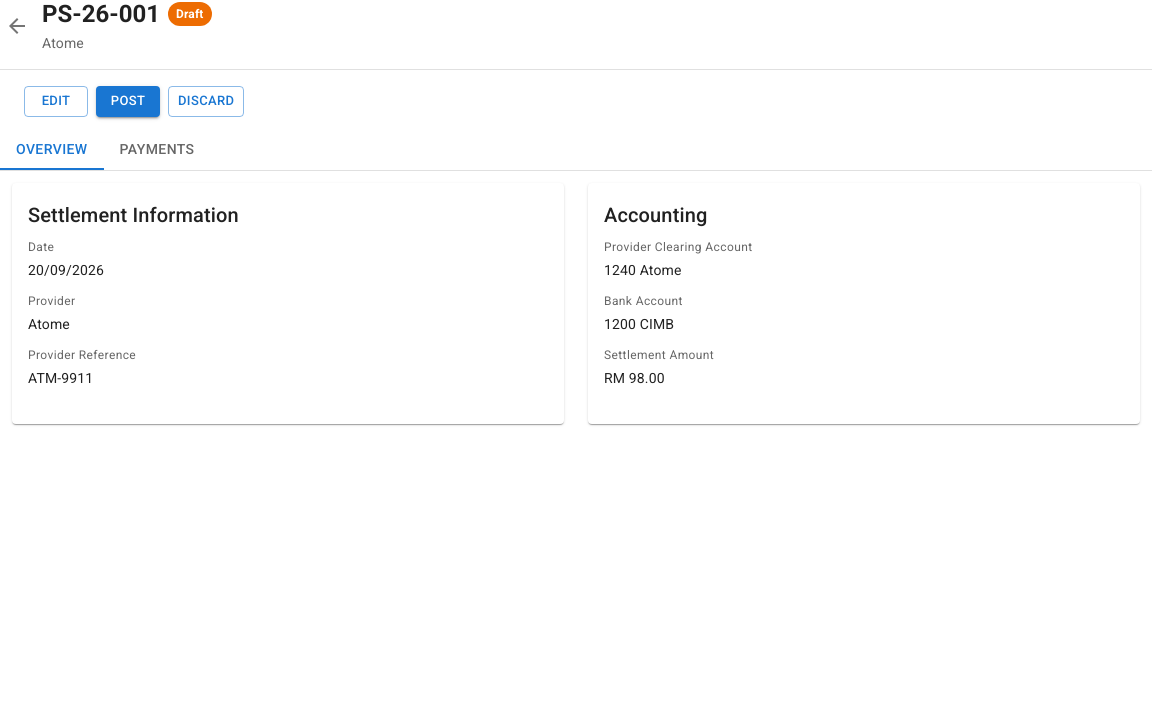
Scenario: ProviderSettlementDetailView › document actions › Discard › does nothing when cancelled
The width and height of the screenshot is (1152, 720).
Click the button "Discard".
click(206, 101)  # box [168,86,244,117]
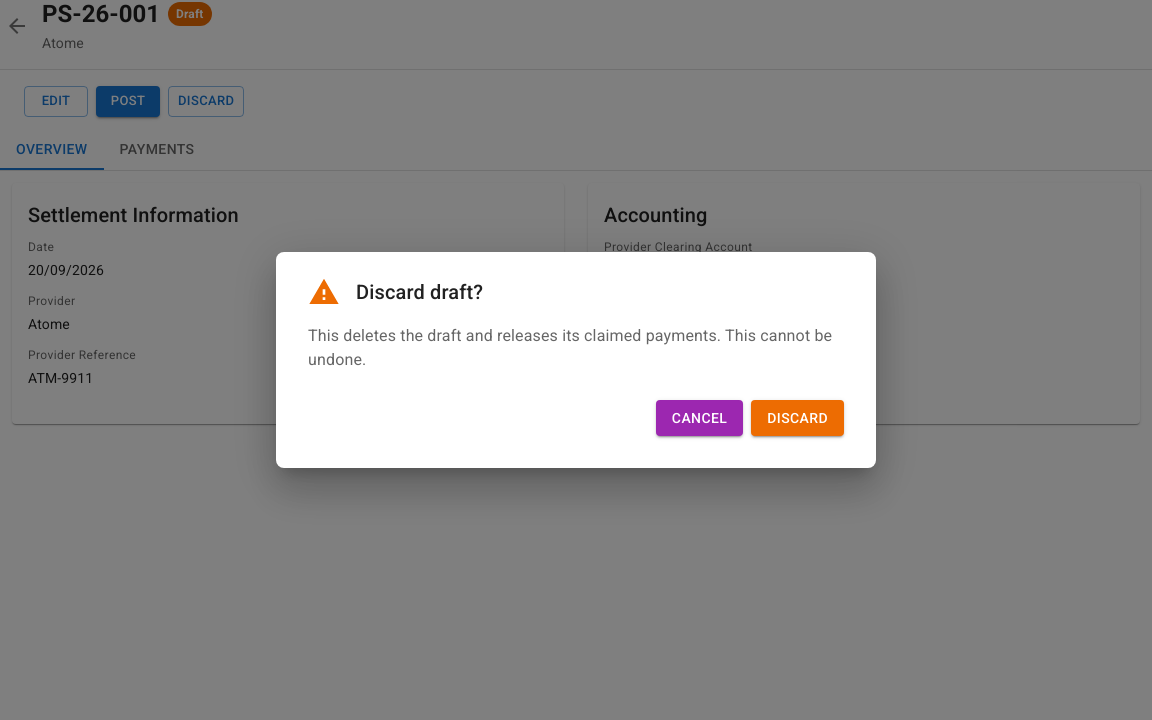
Click the button "Cancel".
click(700, 418)  # box [656,400,743,436]
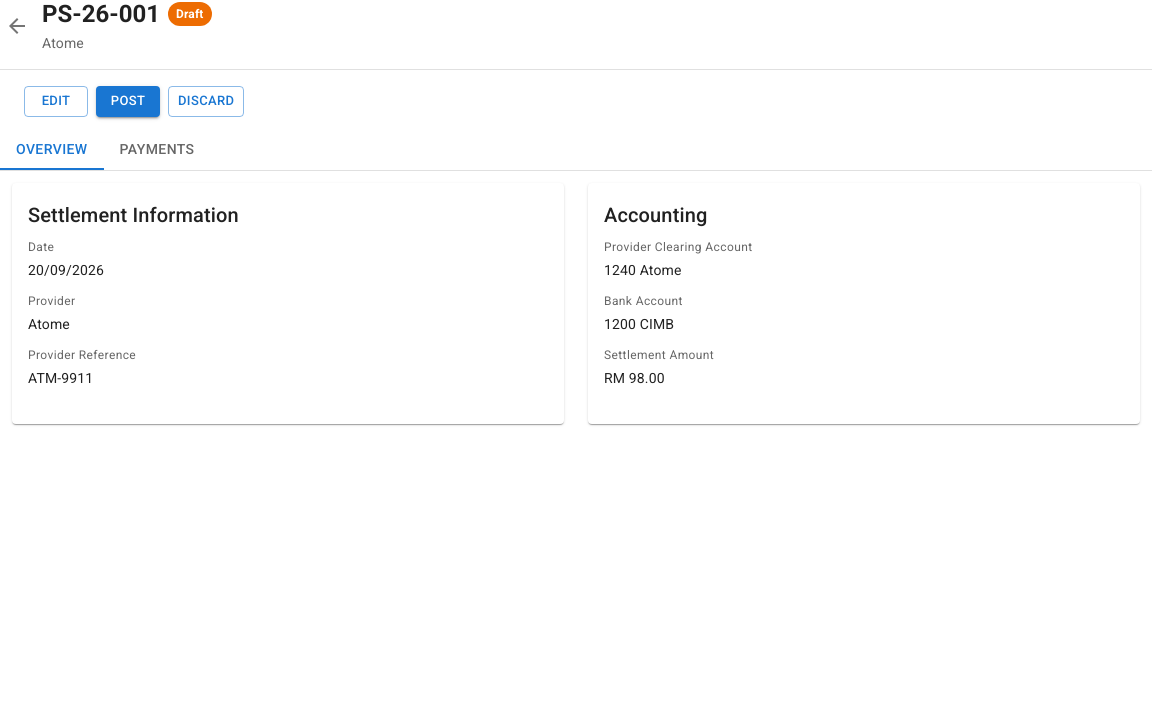
Now the dialog is gone
